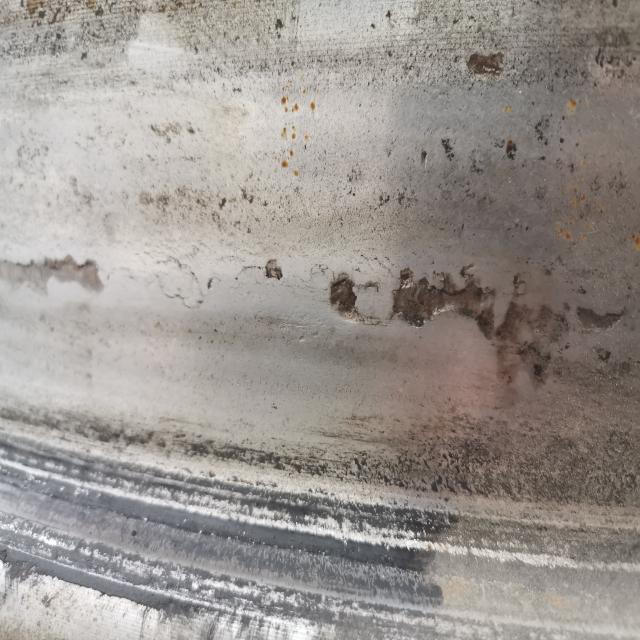Peeling: (393, 266, 495, 341), (499, 301, 560, 383), (6, 257, 107, 296), (327, 273, 382, 329), (576, 306, 627, 336), (465, 48, 508, 80), (264, 259, 286, 283), (505, 137, 521, 163), (441, 137, 457, 159)
